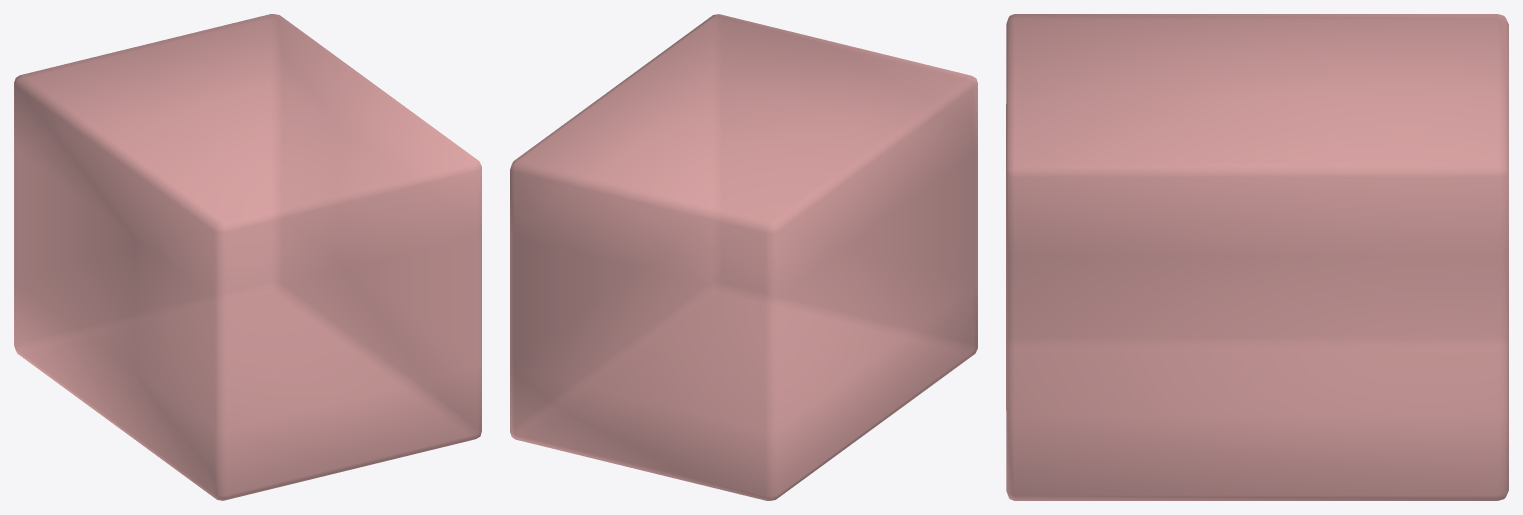
File: MeshSoapBottleVolume_11_1.obj
3 renders of one model, left to right at view 1: azimuth 30°, elevation 25°; view 2: azimuth 150°, elevation 25°; view 3: azimuth 270°, elevation 25°, orthographic. The views are drawn at different scales.
Parts seen in each view (by area): view 1: SoapBottleVolume_11; view 2: SoapBottleVolume_11; view 3: SoapBottleVolume_11.
Boxes of the visible parts, bbox=[...] form: SoapBottleVolume_11: bbox=[14, 14, 481, 500]; SoapBottleVolume_11: bbox=[510, 14, 977, 500]; SoapBottleVolume_11: bbox=[1006, 14, 1508, 500].
Bounding box in the file's own units: 0.0773 × 0.0773 × 0.1042.
